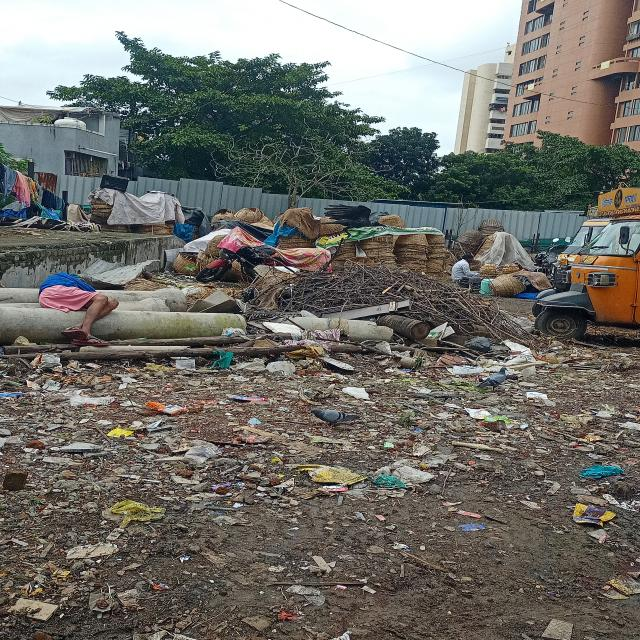garbage: (252, 264, 526, 366)
